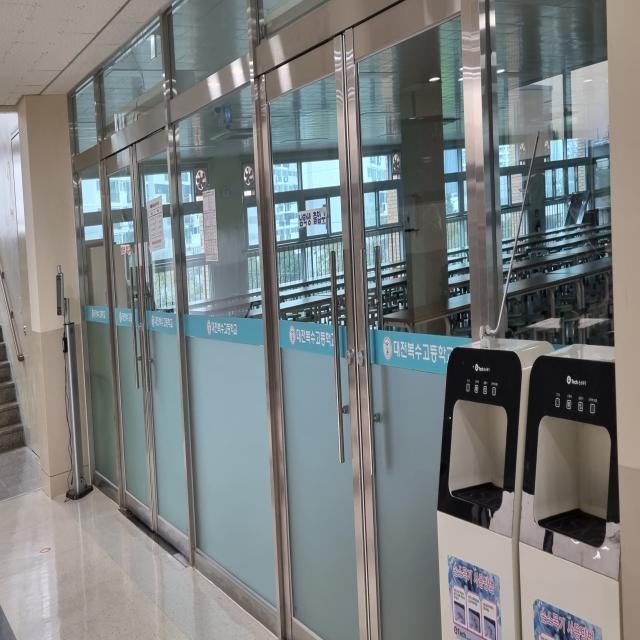logo: (382, 336, 392, 361), (289, 325, 296, 346), (206, 319, 212, 336), (151, 314, 155, 328), (119, 311, 122, 323), (91, 308, 94, 320)
